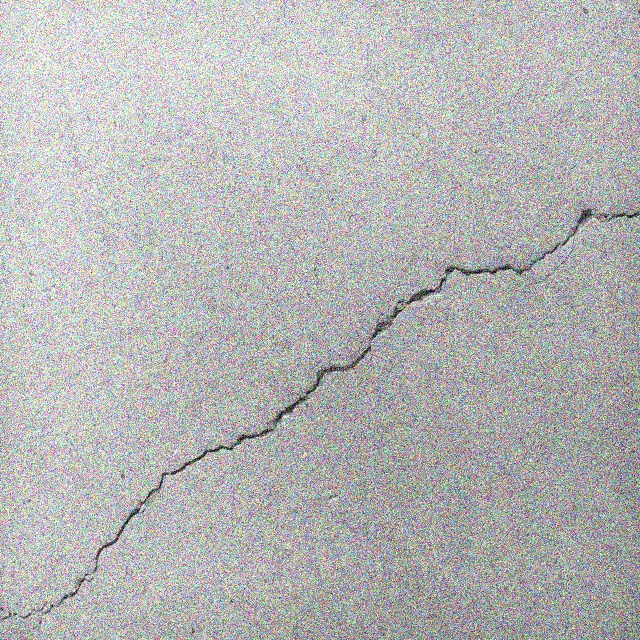SurfaceCrack: (1, 16, 640, 639)
